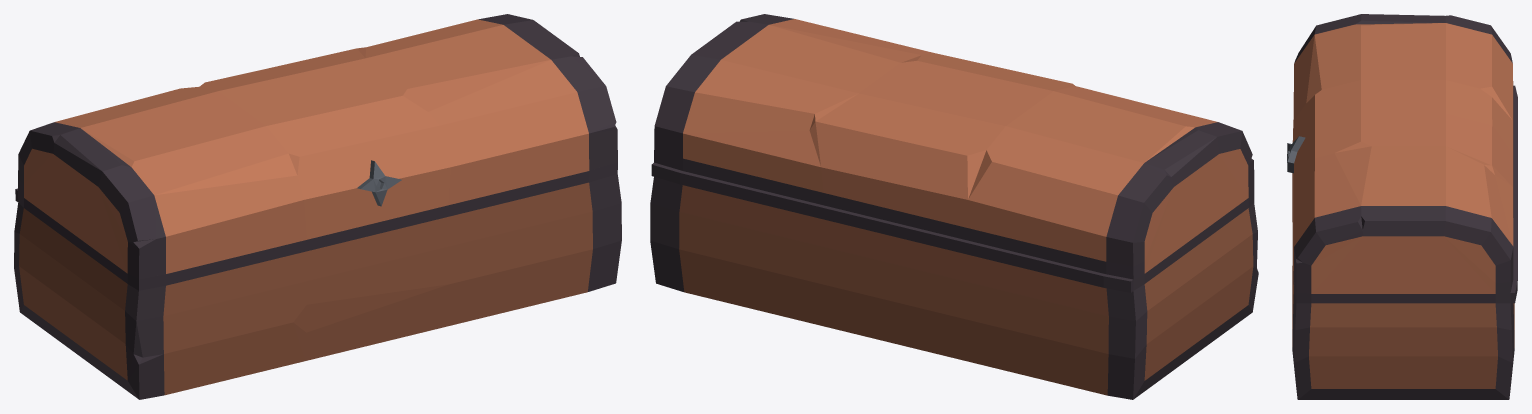
File: Chest.fbx
The picture shows the model from 3 angles, left to right: view 1: azimuth 30°, elevation 25°; view 2: azimuth 150°, elevation 25°; view 3: azimuth 270°, elevation 25°; orthographic projection. The views are drawn at different scales.
Parts seen in each view (by area): view 1: chest lid, Chest; view 2: chest lid, Chest; view 3: chest lid, Chest.
Boxes of the visible parts, <box> form: chest lid: <box>18,14,617,279</box>; Chest: <box>14,162,621,399</box>; chest lid: <box>654,14,1254,279</box>; Chest: <box>650,162,1258,399</box>; chest lid: <box>1287,14,1513,293</box>; Chest: <box>1292,85,1517,399</box>.
Bounding box in the file's own units: 1.63 × 0.664 × 0.7492.
